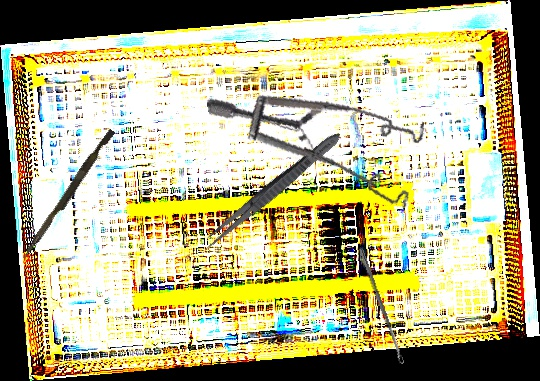Dressing Forceps: (199, 127, 346, 254)
Pusher: (21, 126, 116, 263)
Speculum: (205, 58, 440, 243)
Surgical Spoon: (357, 246, 405, 365)
